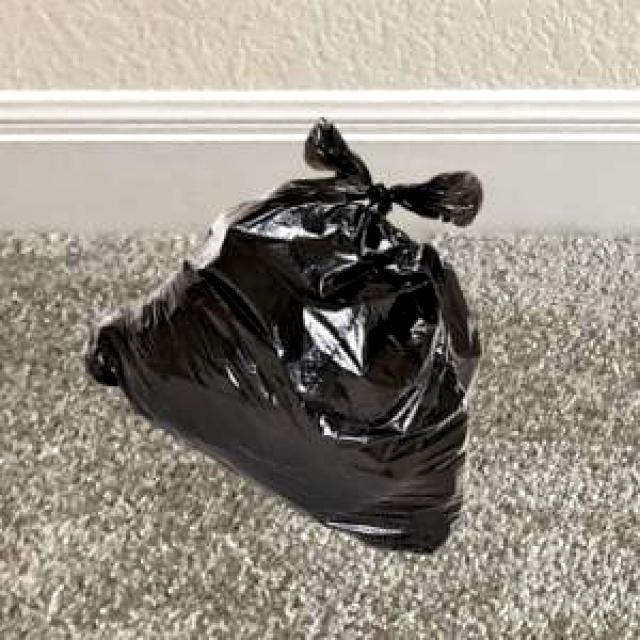Garbage_Bag: (82, 116, 479, 552)
